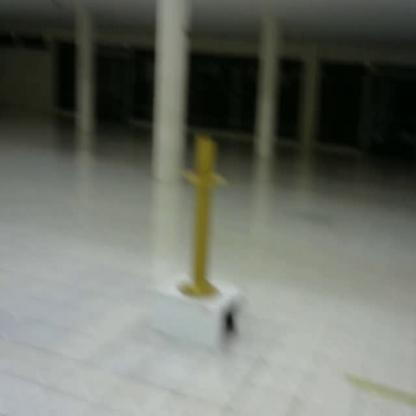pole: (171, 136, 231, 304)
